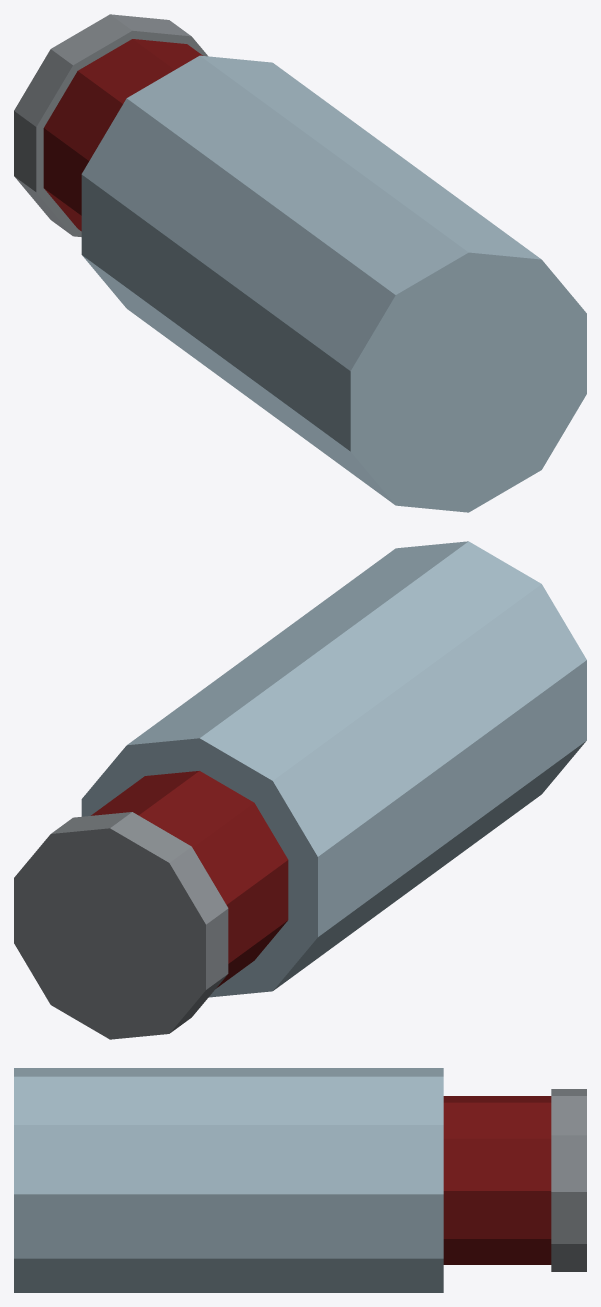
Rendered from antiviral_vial.glb.
3 views of the same model, one above another, from view 1: azimuth 30°, elevation 25°; view 2: azimuth 150°, elevation 25°; view 3: azimuth 270°, elevation 25° (orthographic). The views are drawn at different scales.
Visible parts, largest first — view 1: antiviral_vial; view 2: antiviral_vial; view 3: antiviral_vial.
Boxes of the visible parts, x1,y1,x2,y2 form: antiviral_vial: (14,14,586,512); antiviral_vial: (14,541,586,1039); antiviral_vial: (14,1068,586,1292).
Size of the model in its own units: 0.0304 by 0.032 by 0.08.
